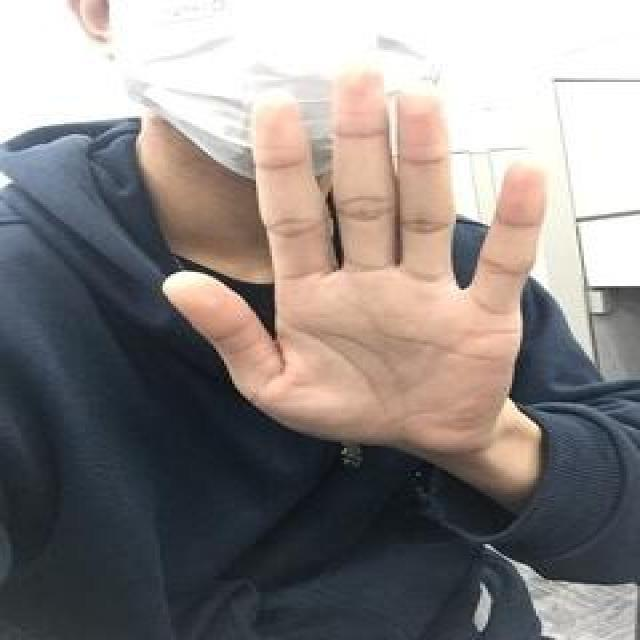no-gloves: (160, 64, 550, 452)
